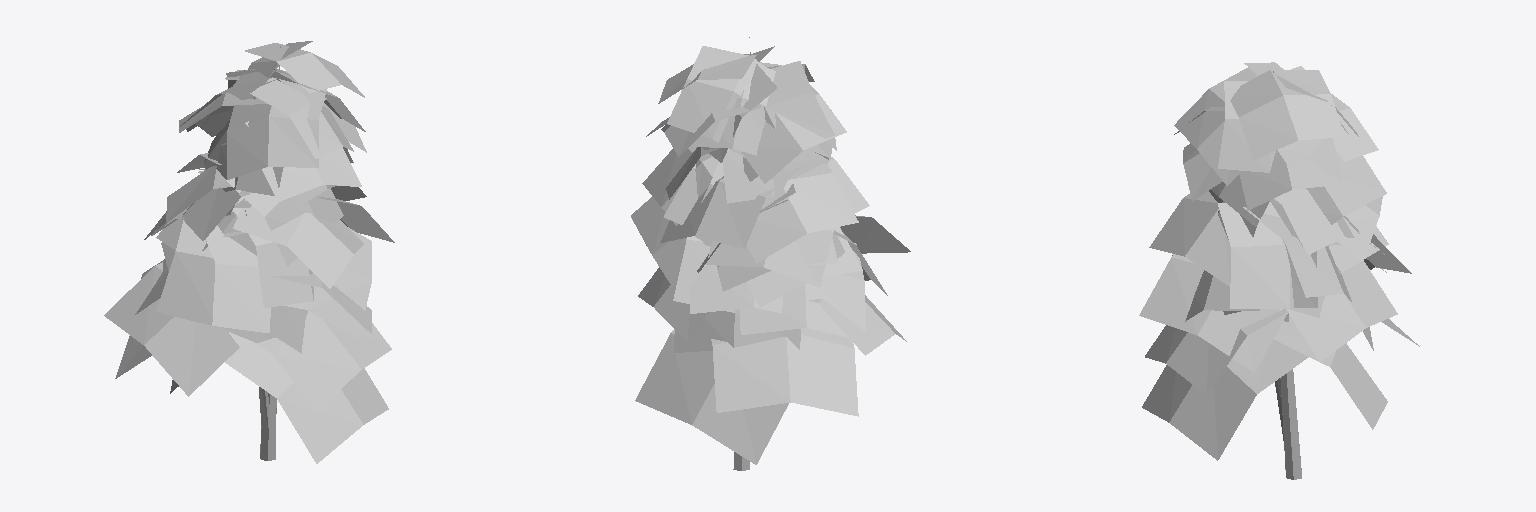
Rendered from birchC(1).obj.
3 renders of one model, left to right at view 1: azimuth 30°, elevation 25°; view 2: azimuth 150°, elevation 25°; view 3: azimuth 270°, elevation 25°, orthographic.
Parts seen in each view (by area): view 1: Default; view 2: Default; view 3: Default.
Part boxes in pixels (bbox=[...]): Default: bbox=[104, 41, 394, 463]; Default: bbox=[631, 37, 910, 470]; Default: bbox=[1139, 62, 1419, 479].
Size of the model in its own units: 9.24 by 14.95 by 9.05.